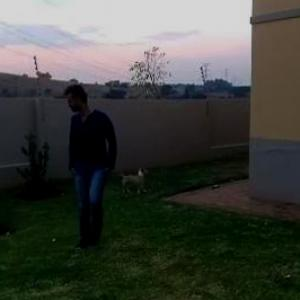follow: (65, 79, 121, 248)
